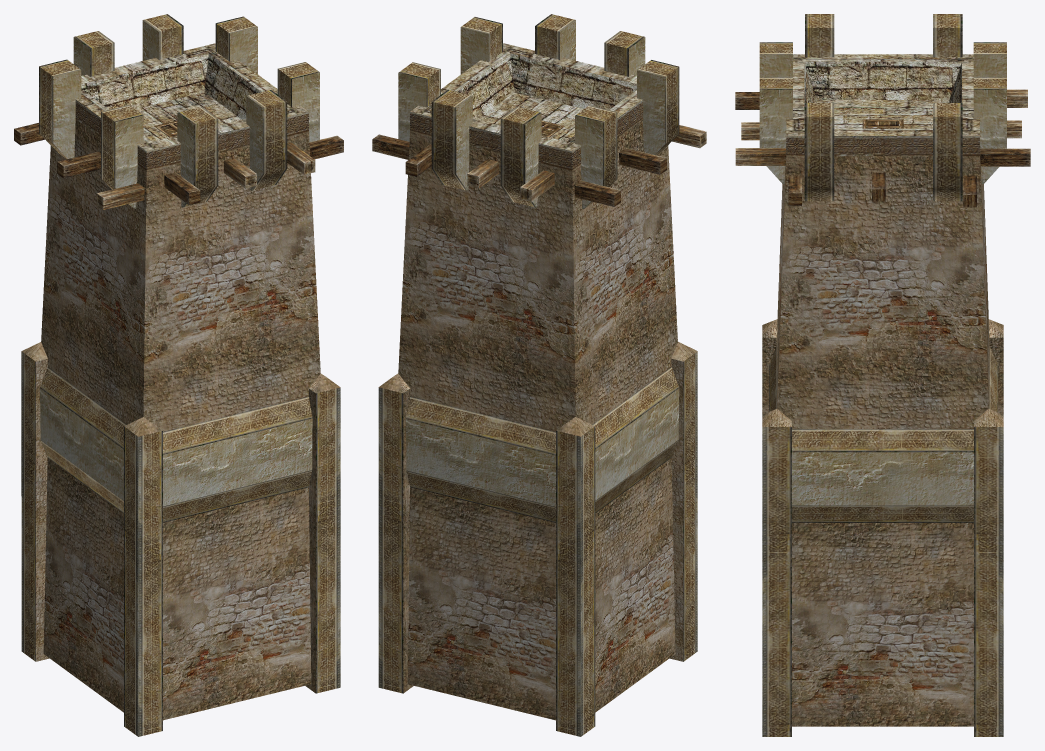
File: ph_ghtw1.glb
3 views of the same model, side by side, from view 1: azimuth 30°, elevation 25°; view 2: azimuth 150°, elevation 25°; view 3: azimuth 270°, elevation 25° (orthographic). The views are drawn at different scales.
Visible parts, largest first — view 1: ph_ghtw1; view 2: ph_ghtw1; view 3: ph_ghtw1.
Part boxes in pixels (x1=…): ph_ghtw1: x1=14, y1=14, x2=343, y2=736; ph_ghtw1: x1=372, y1=14, x2=706, y2=736; ph_ghtw1: x1=735, y1=14, x2=1030, y2=736.
Size of the model in its own units: 7.82 by 18.44 by 7.97.
5 materials, 5 textured.
